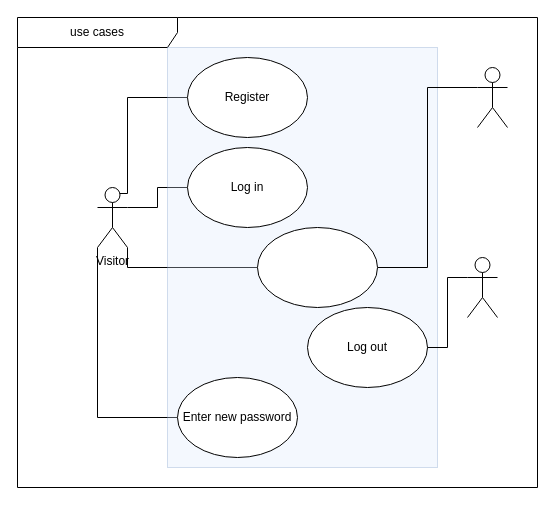
This 555x505 diagram has some shape labels left out. Each missing label, with the box of its shape:
Email service: (476, 66, 508, 128)
Restore password: (256, 226, 378, 308)
User: (466, 256, 498, 318)
